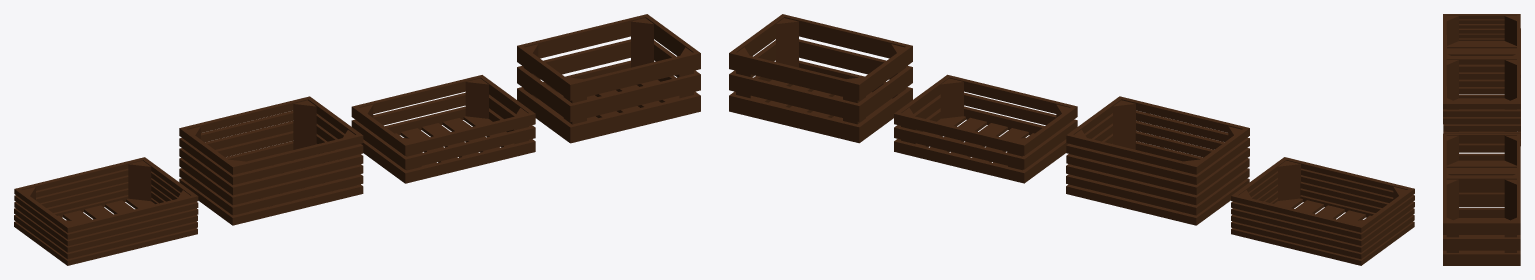
File: Krat Collectie.fbx
3 views of the same model, side by side, from view 1: azimuth 30°, elevation 25°; view 2: azimuth 150°, elevation 25°; view 3: azimuth 270°, elevation 25° (orthographic). The views are drawn at different scales.
Visible parts, largest first — view 1: Krat hoog 4 latten, Krat hoog 3 latten, Krat laag 4 latten, Krat laag 3 latten; view 2: Krat hoog 4 latten, Krat hoog 3 latten, Krat laag 4 latten, Krat laag 3 latten; view 3: Krat hoog 3 latten, Krat hoog 4 latten, Krat laag 3 latten, Krat laag 4 latten.
Boxes of the visible parts, left/top/right/bottom form: Krat hoog 4 latten: left=179, top=96, right=363, bottom=225; Krat hoog 3 latten: left=517, top=14, right=700, bottom=143; Krat laag 4 latten: left=14, top=157, right=198, bottom=265; Krat laag 3 latten: left=351, top=75, right=535, bottom=183; Krat hoog 4 latten: left=1066, top=96, right=1249, bottom=225; Krat hoog 3 latten: left=729, top=14, right=912, bottom=143; Krat laag 4 latten: left=1231, top=157, right=1414, bottom=265; Krat laag 3 latten: left=894, top=74, right=1077, bottom=183; Krat hoog 3 latten: left=1443, top=177, right=1520, bottom=265; Krat hoog 4 latten: left=1443, top=57, right=1520, bottom=145; Krat laag 3 latten: left=1443, top=133, right=1520, bottom=207; Krat laag 4 latten: left=1443, top=14, right=1520, bottom=79.
Bounding box in the file's own units: 302 × 26.66 × 44.32.
